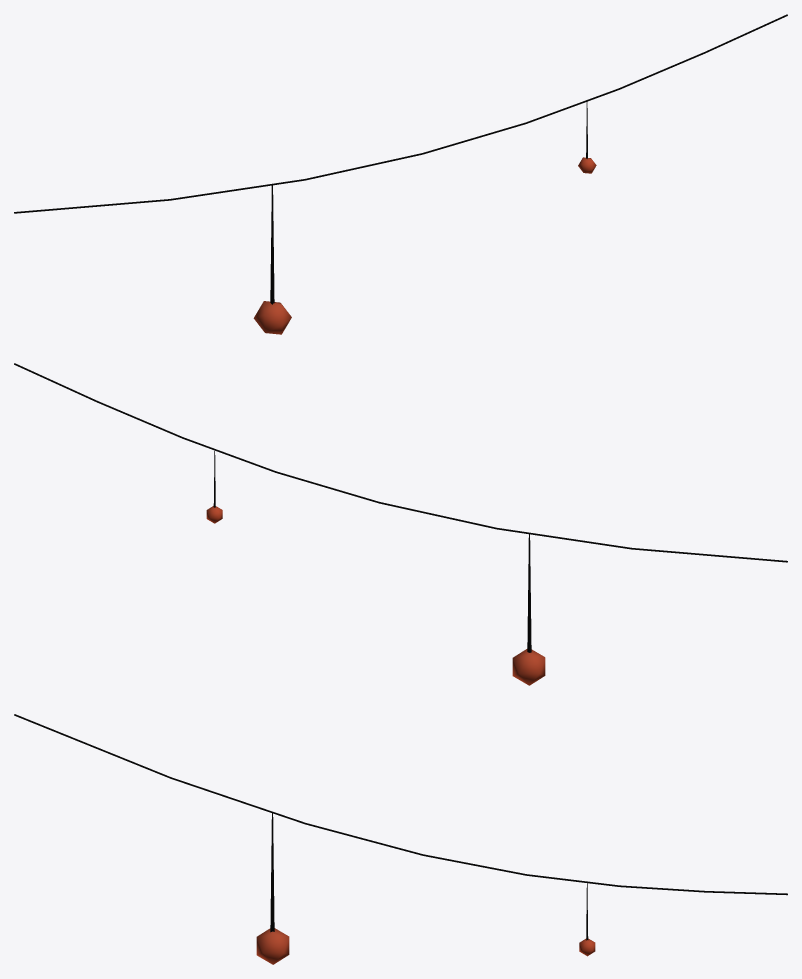
Rendered from Garland_B_5_SpherifyLamps_Red.fbx.
The picture shows the model from 3 angles, top to bottom: view 1: azimuth 30°, elevation 25°; view 2: azimuth 150°, elevation 25°; view 3: azimuth 330°, elevation 25°; orthographic projection.
Parts seen in each view (by area): view 1: Garland_B_5_SpherifyLamps_Red; view 2: Garland_B_5_SpherifyLamps_Red; view 3: Garland_B_5_SpherifyLamps_Red.
Boxes of the visible parts, bbox=[...] form: Garland_B_5_SpherifyLamps_Red: bbox=[14, 14, 787, 334]; Garland_B_5_SpherifyLamps_Red: bbox=[14, 363, 787, 685]; Garland_B_5_SpherifyLamps_Red: bbox=[14, 714, 787, 964].
Bounding box in the file's own units: 676 × 161 × 29.13.
